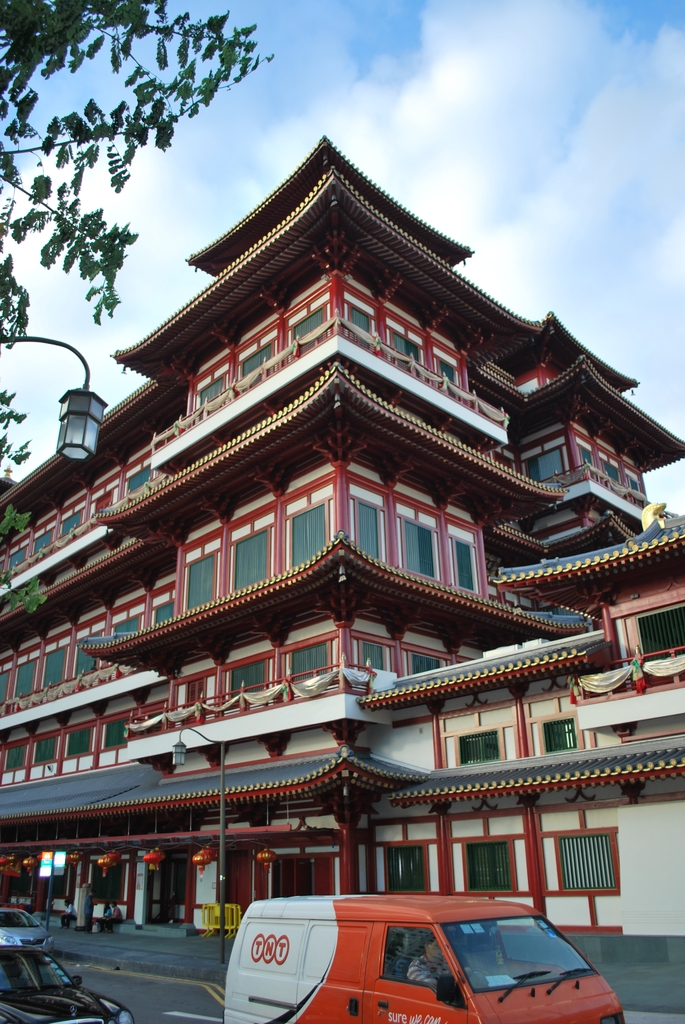Car: (221, 894, 630, 1021), (0, 943, 133, 1023), (0, 903, 49, 941)
